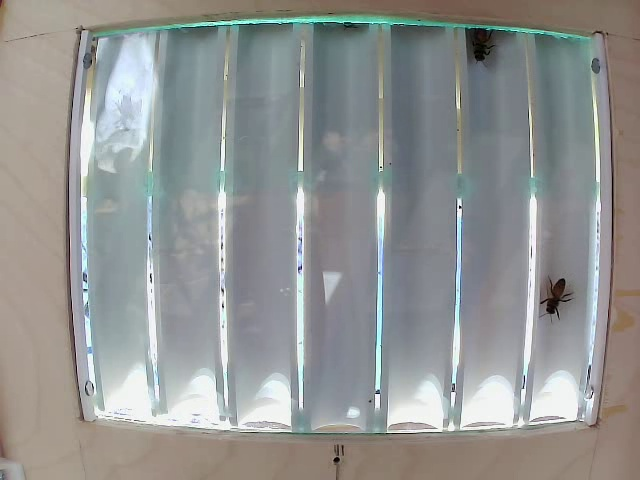bee: (526, 263, 579, 321), (470, 26, 510, 96)
